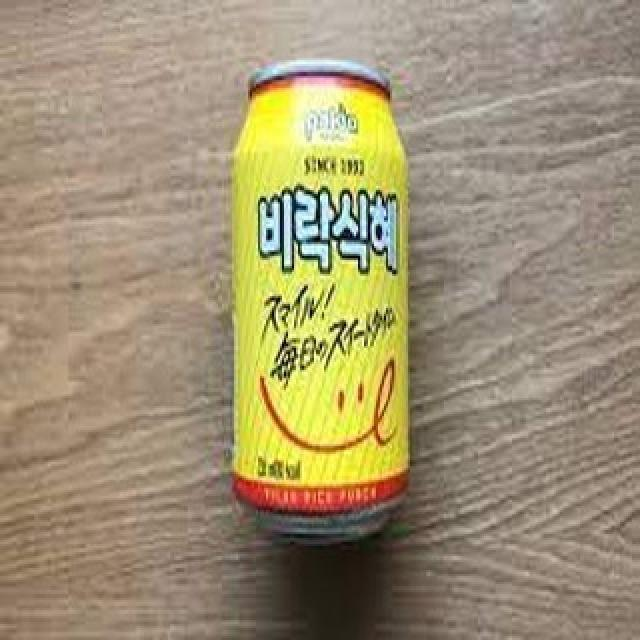can: (221, 58, 425, 544)
